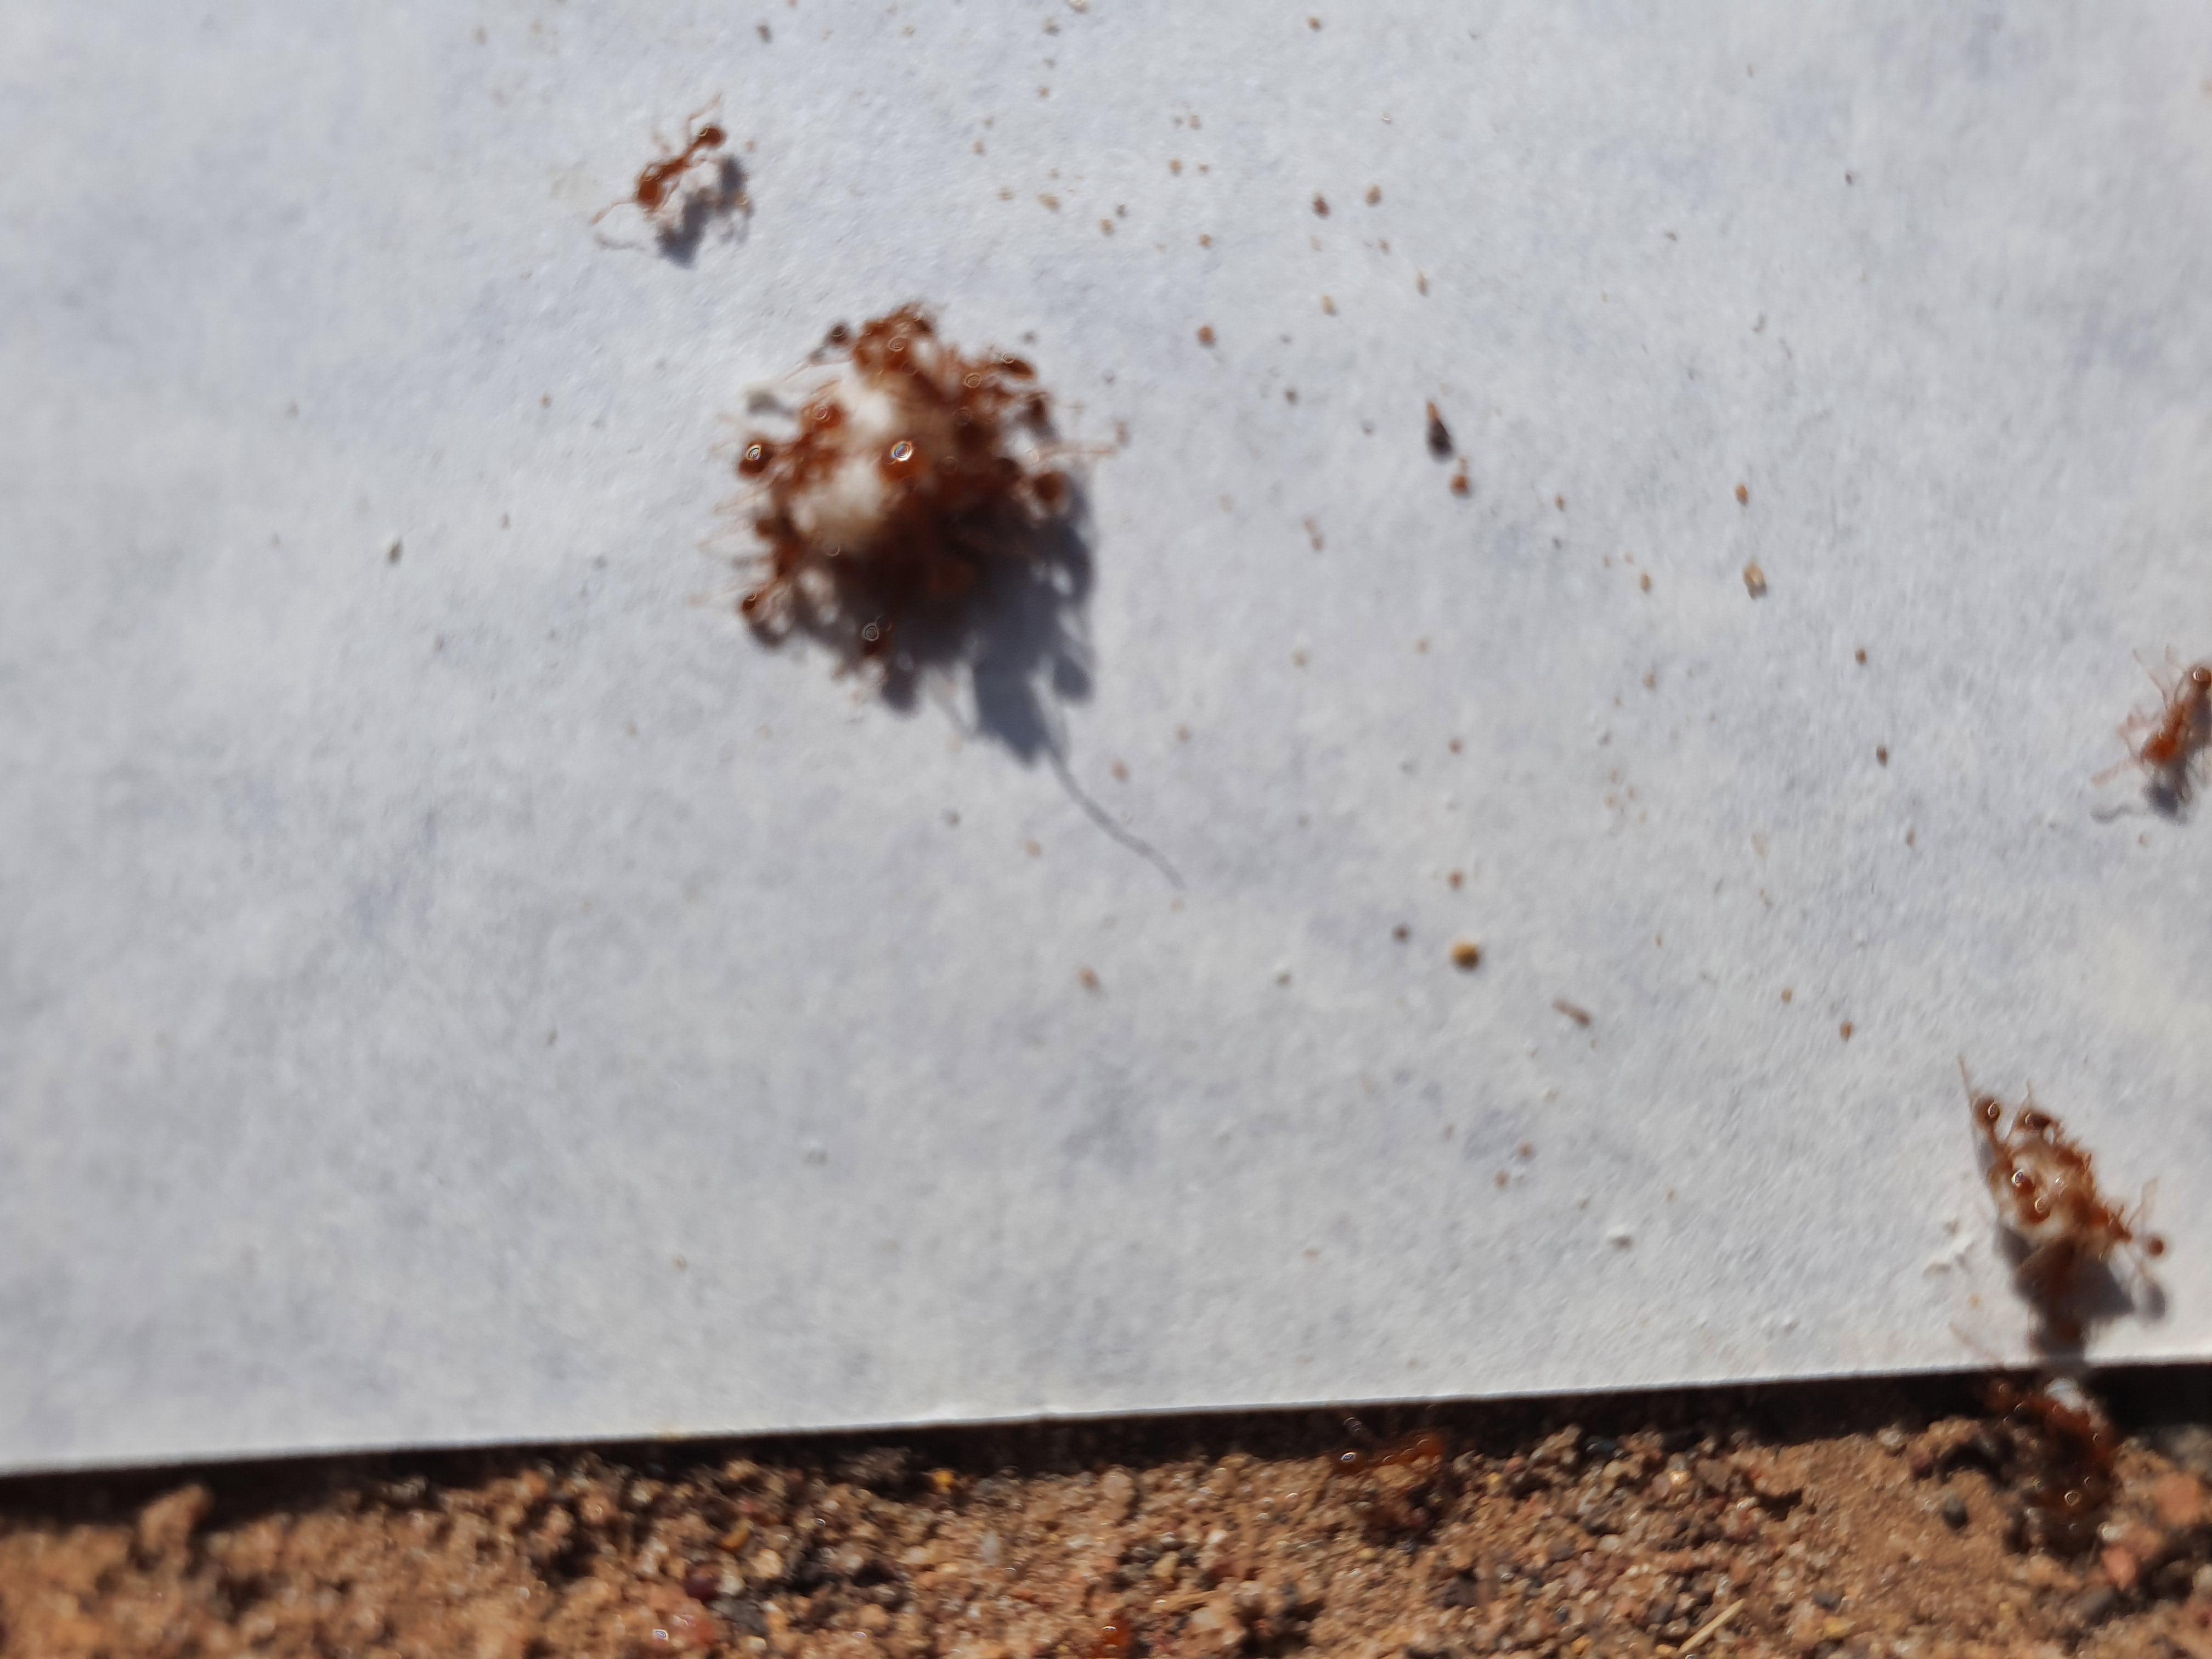Solenopsis_geminata: (561, 66, 772, 305), (2066, 603, 2212, 864), (1282, 1394, 1486, 1572), (991, 1553, 1193, 1659)
